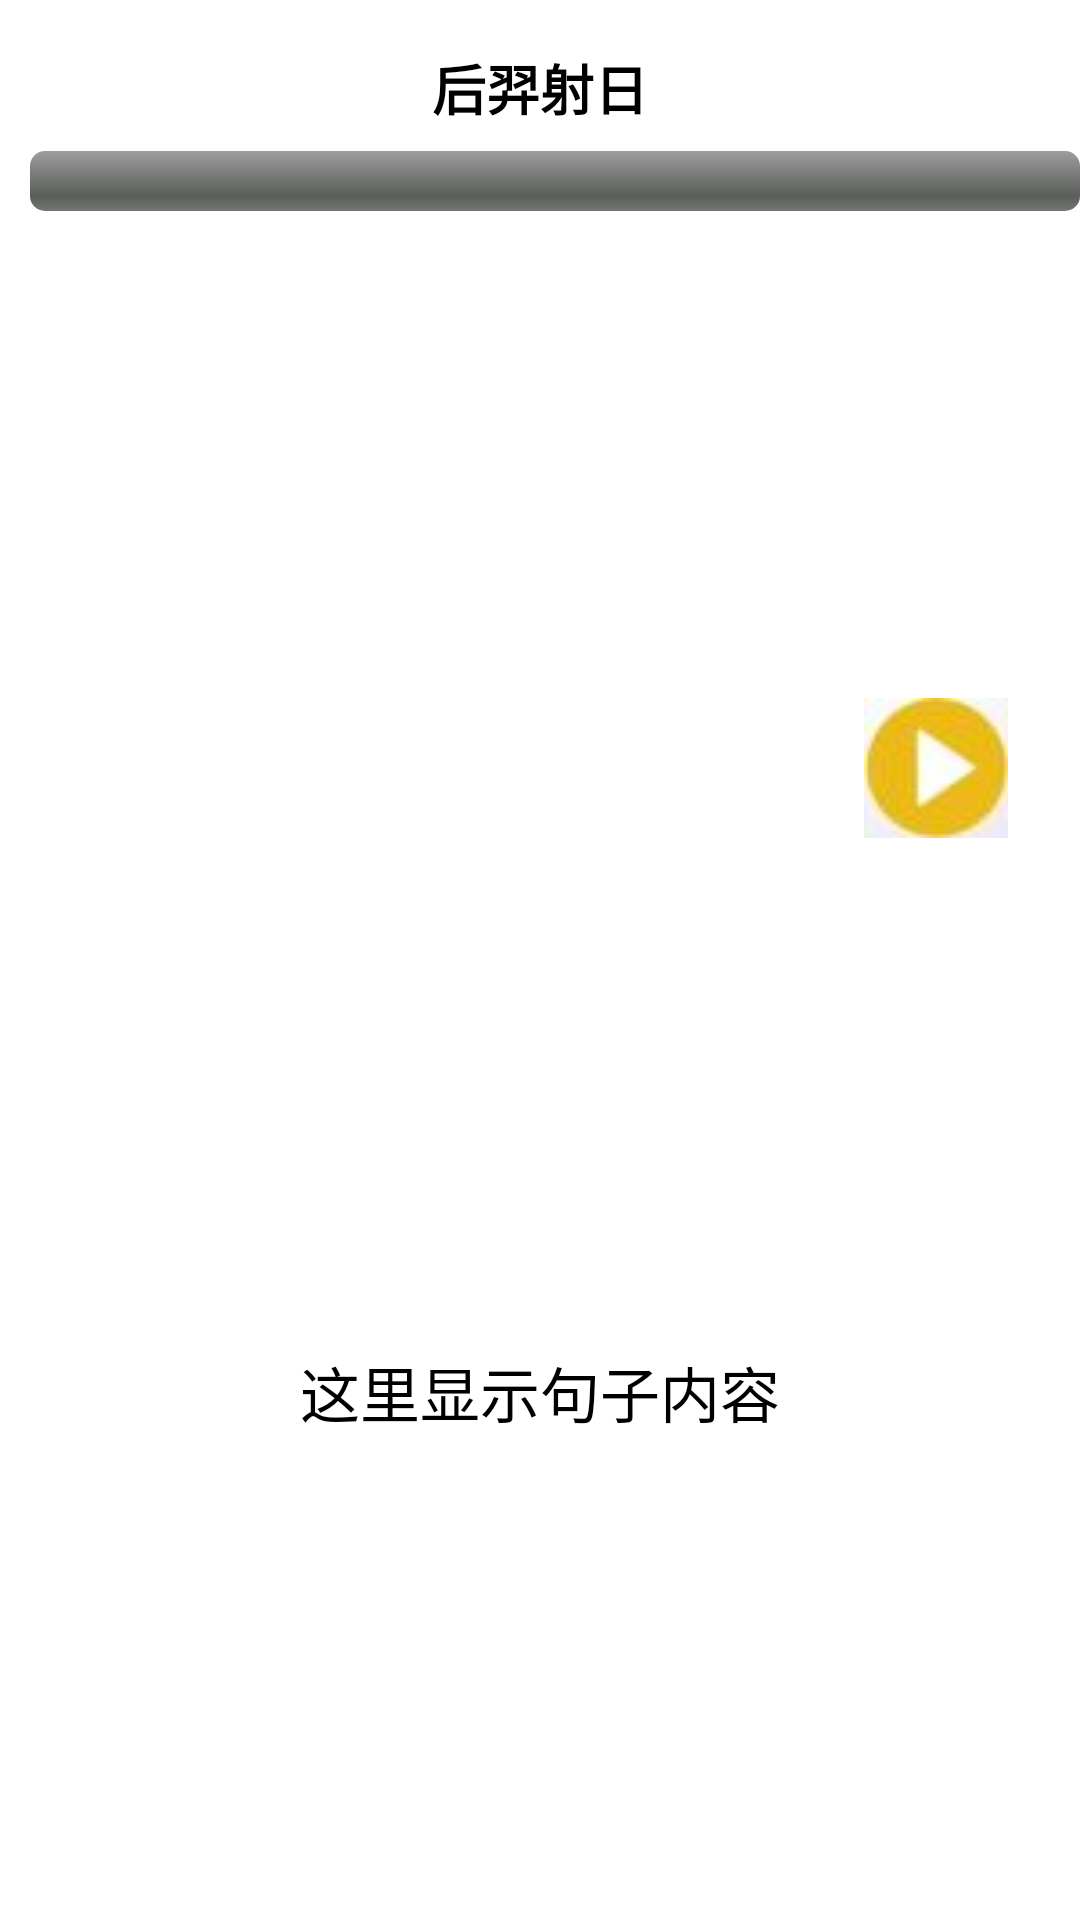

Icon bounding boxes for this 1080×1920 phone screenshot, format region(x1, y1, x2, y2):
play: region(864, 698, 1008, 838)
